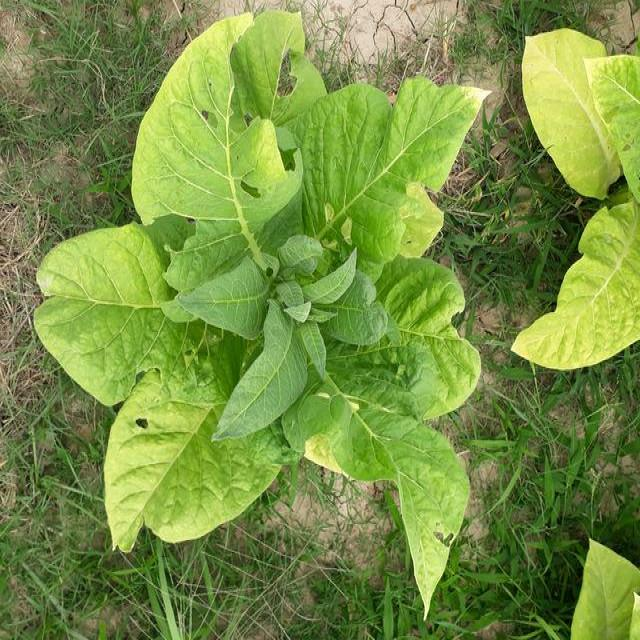crop: (33, 12, 487, 602), (522, 31, 640, 376), (554, 544, 640, 640)
